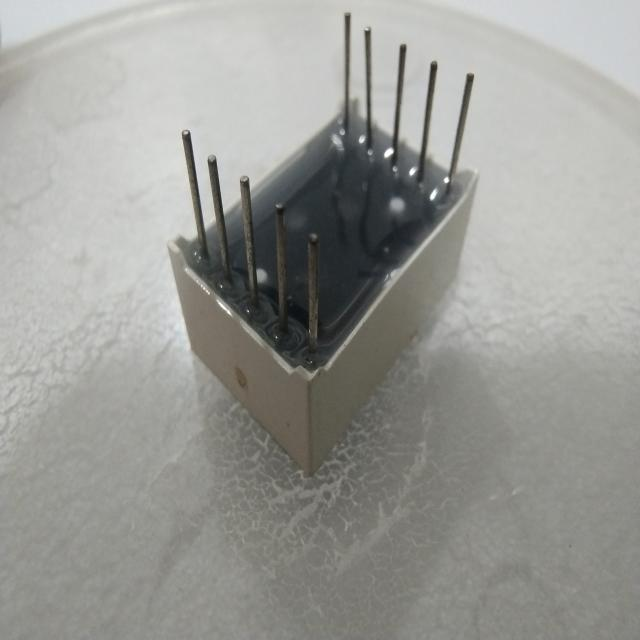7_segments: (152, 4, 490, 492)
